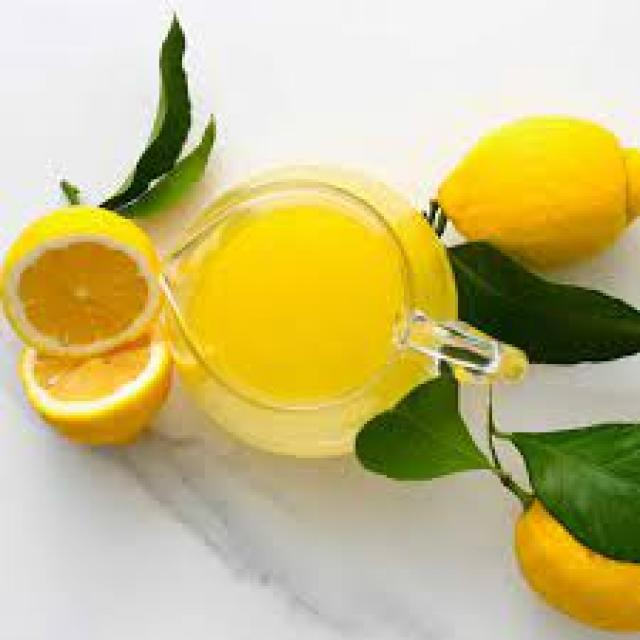lemon: (439, 121, 640, 266), (2, 206, 164, 357), (515, 504, 640, 629), (26, 343, 173, 449)
